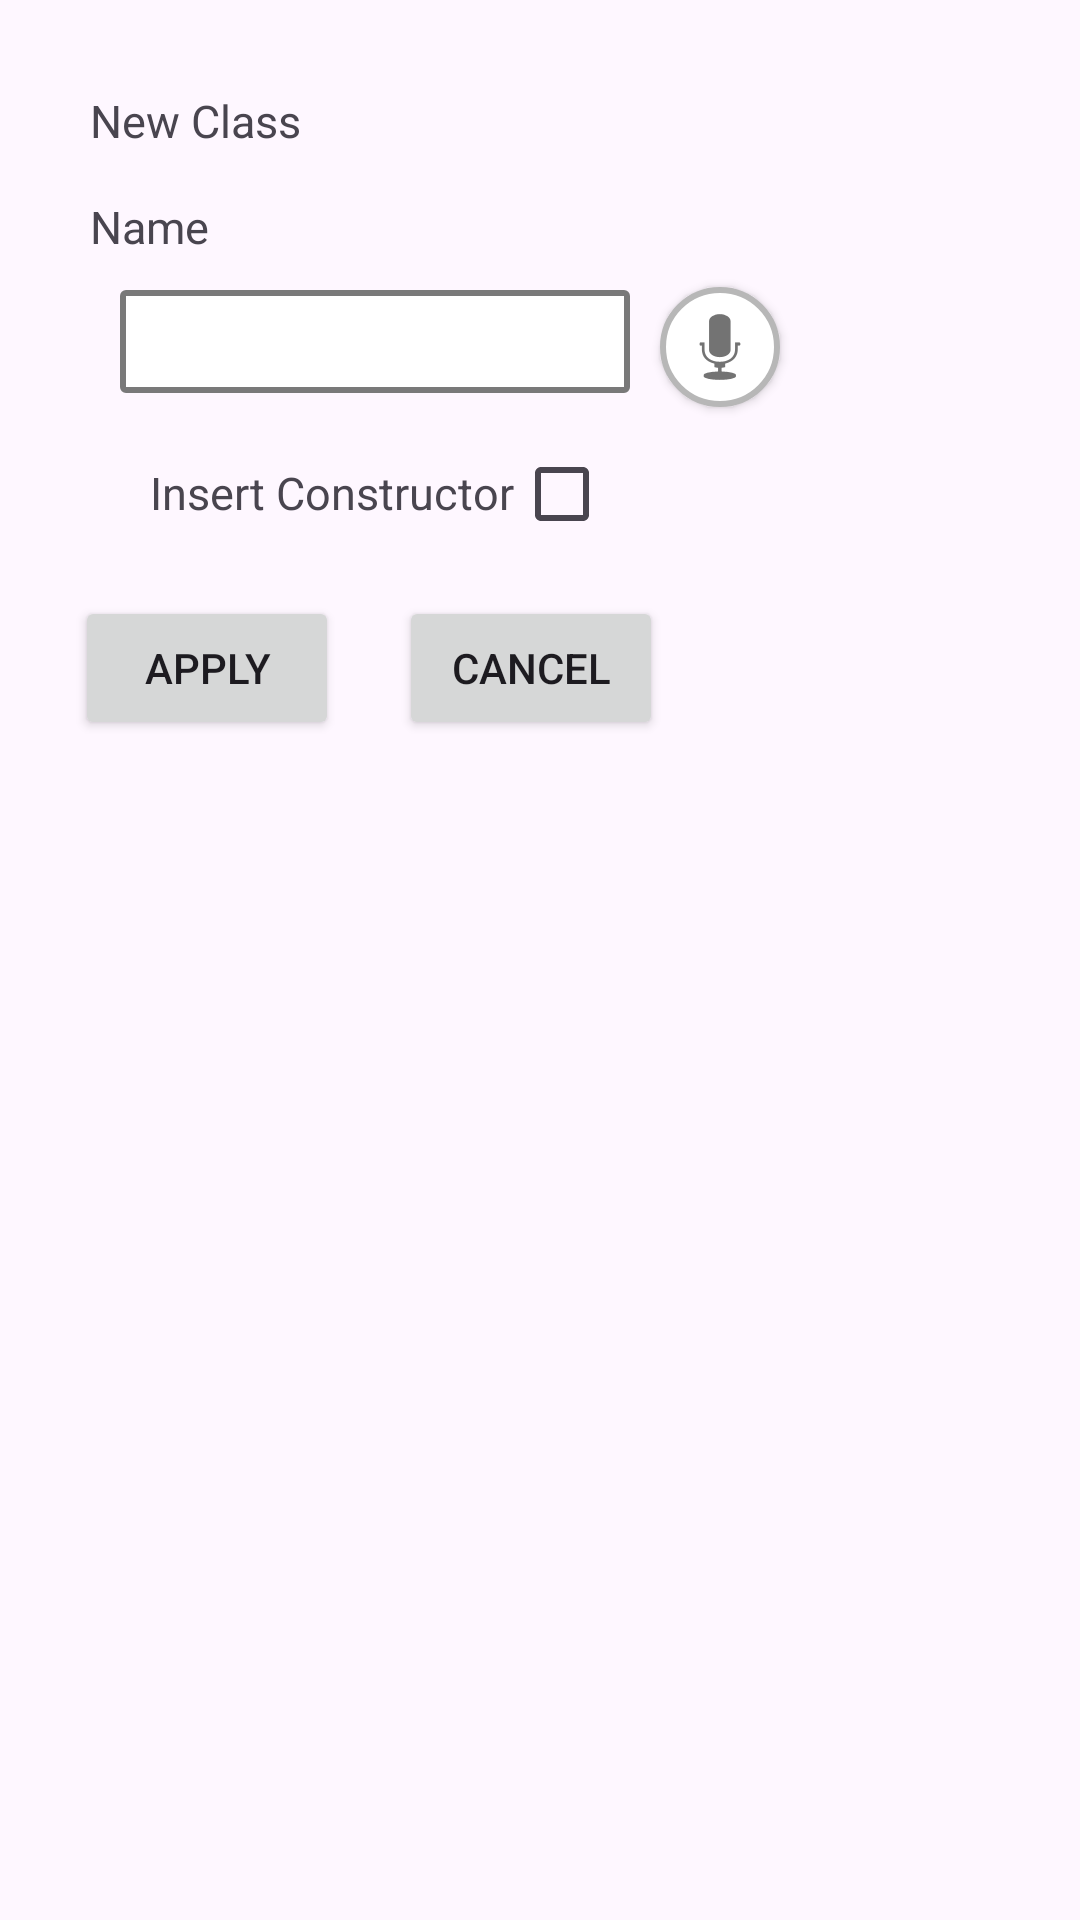

Icon bounding boxes for this 1080*1920 phone screenshot, format (x1, y1, x2, y2):
microphone: (660, 287, 780, 407)
